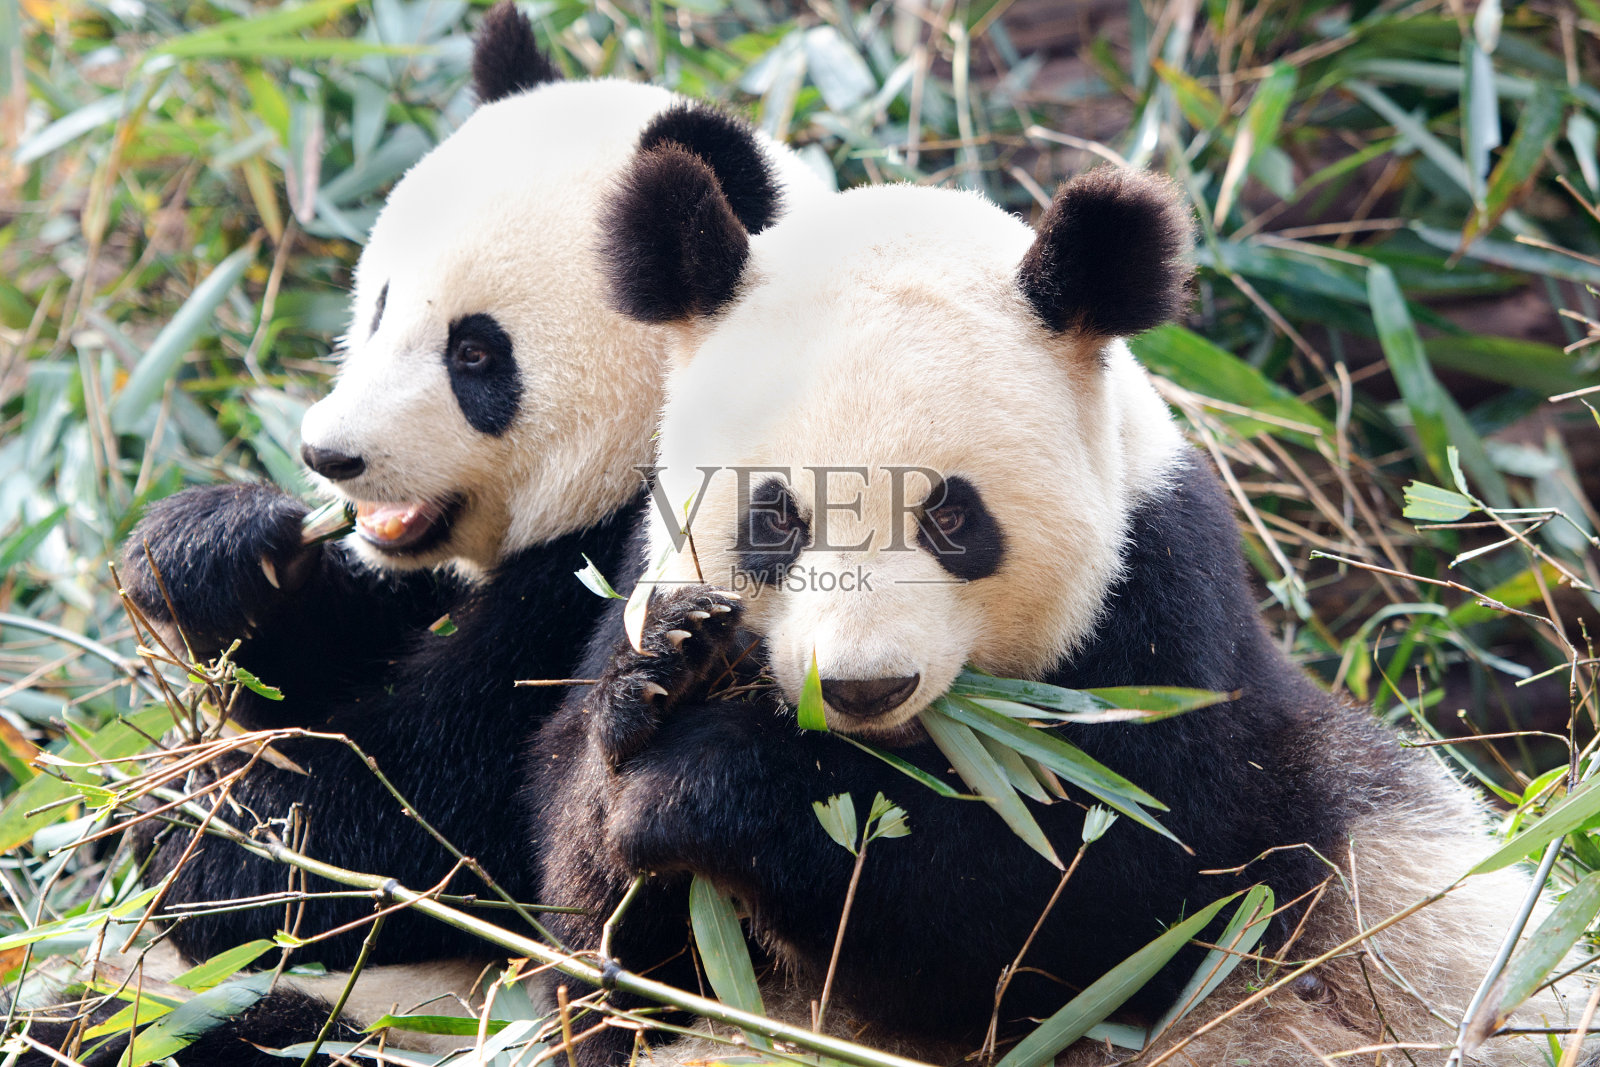panda: (629, 144, 1483, 1042), (115, 4, 789, 907)
